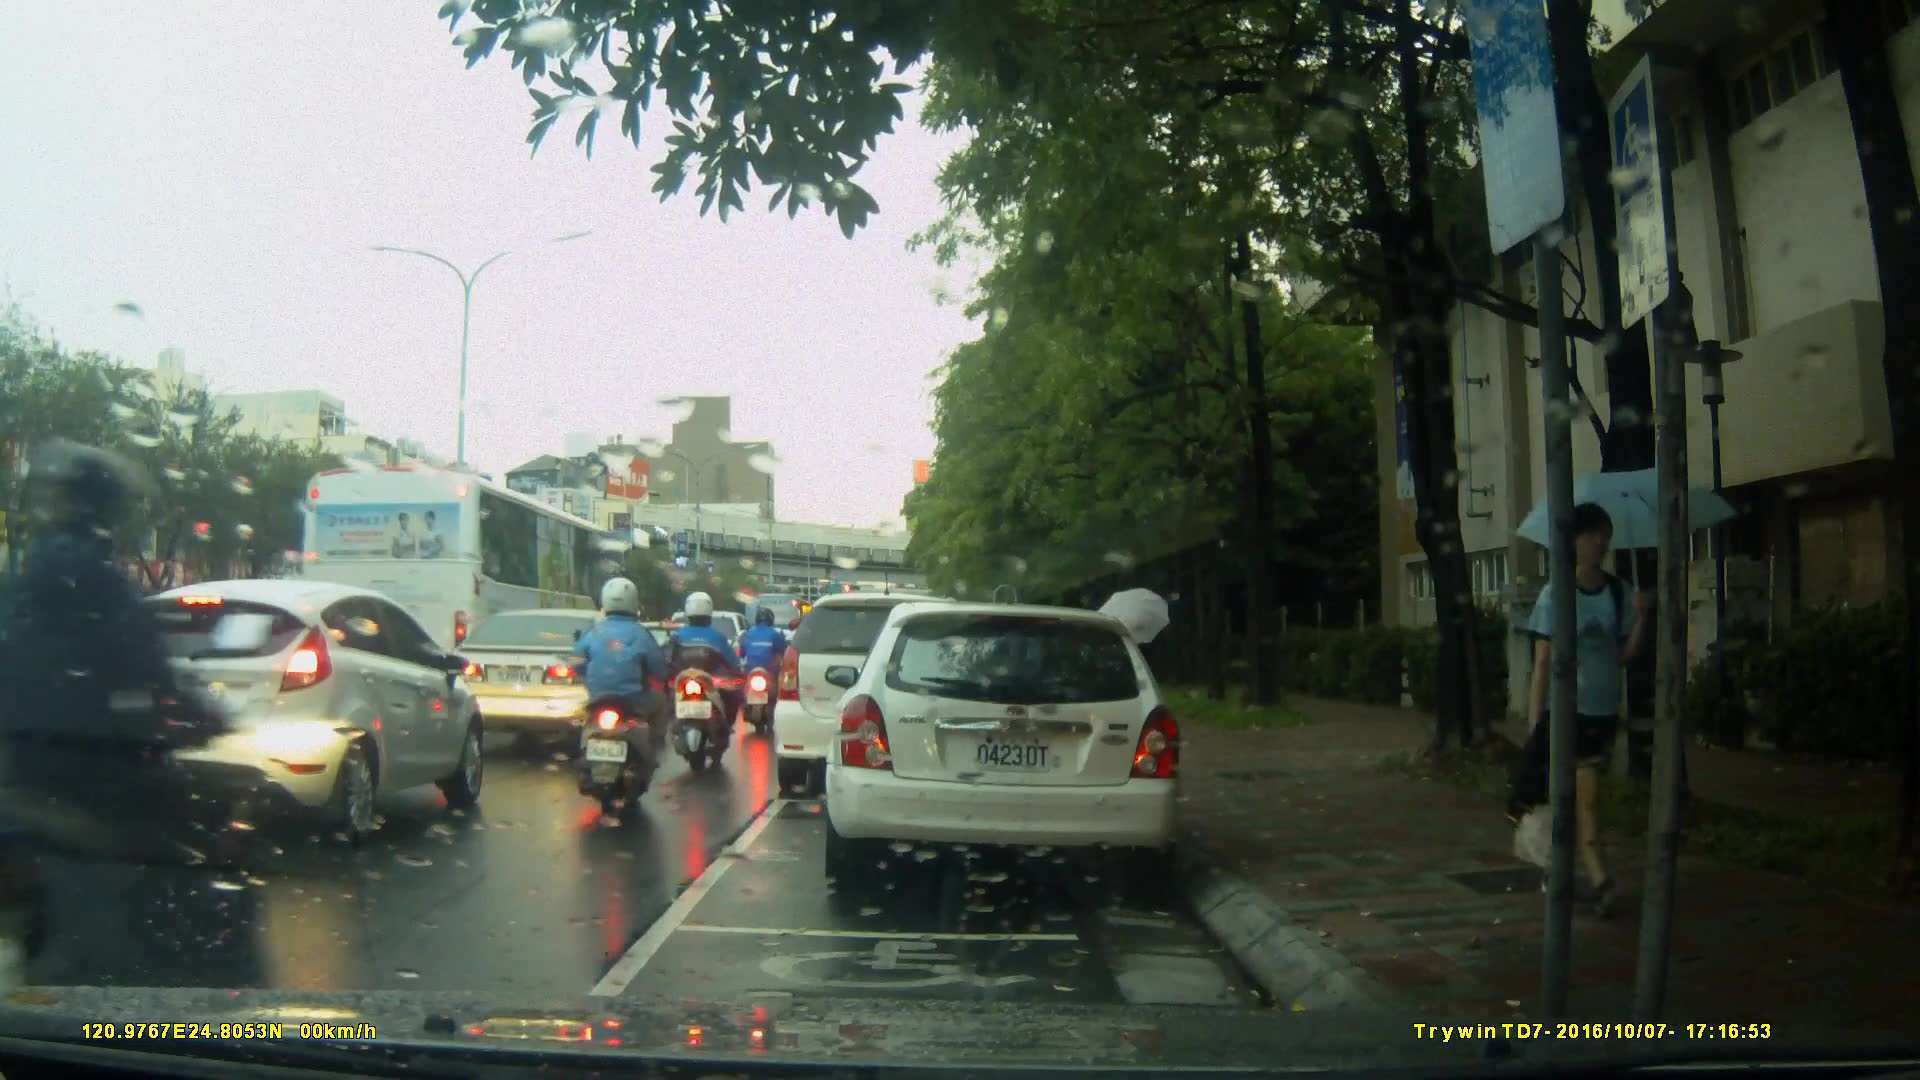pedestrian: (1502, 493, 1660, 934)
rider: (1, 434, 264, 1065), (571, 578, 687, 808), (666, 587, 744, 787), (734, 606, 788, 745)
vehicle: (835, 594, 1194, 898), (101, 576, 488, 846), (298, 465, 628, 728), (1, 547, 184, 971), (776, 590, 1026, 784), (436, 606, 673, 752), (1, 586, 155, 697), (612, 620, 718, 710)
